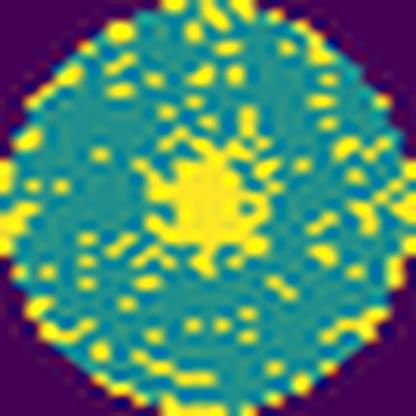Center: (137, 137, 273, 279)
